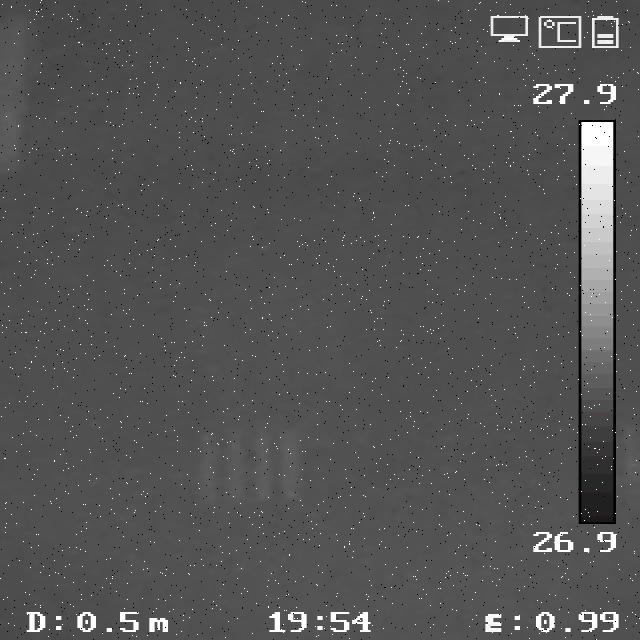threshold 4-bar target: (192, 426, 305, 504)
